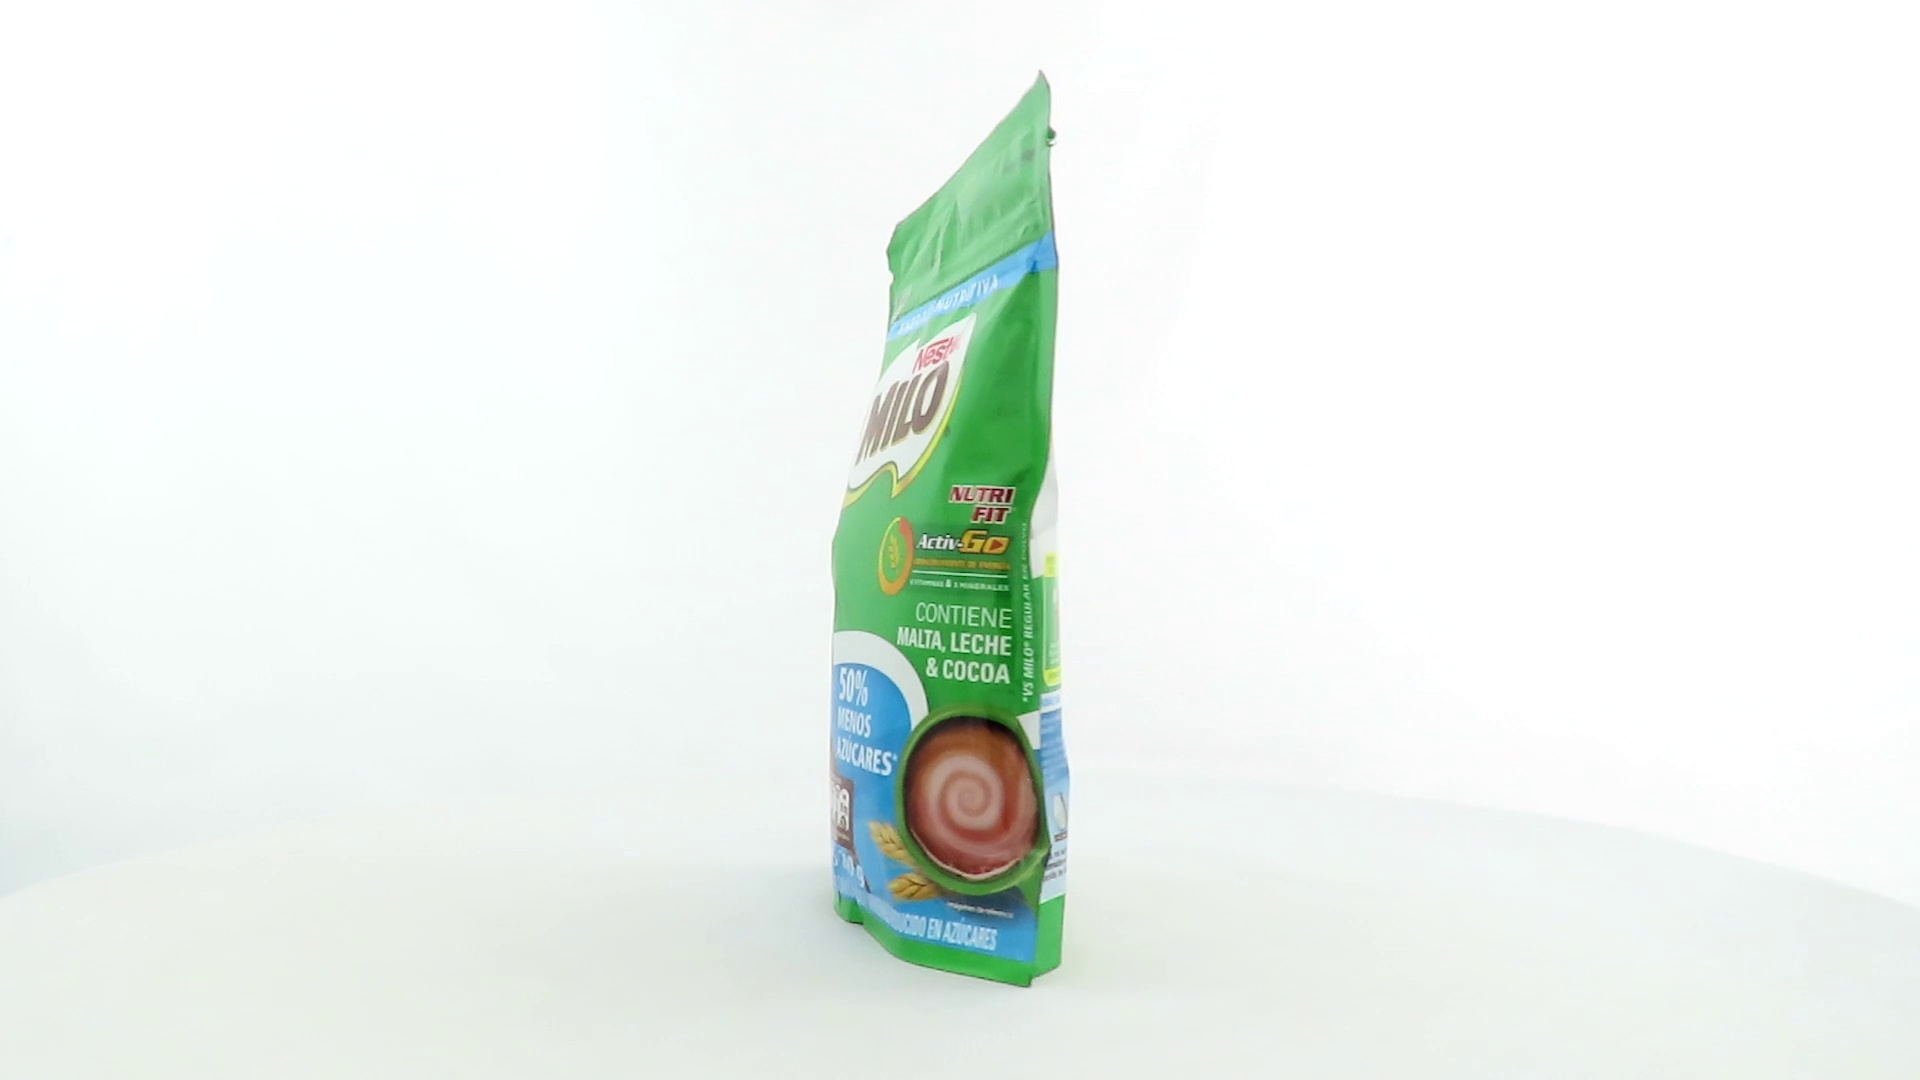COL0170205DYP20000: (824, 65, 1076, 994)
